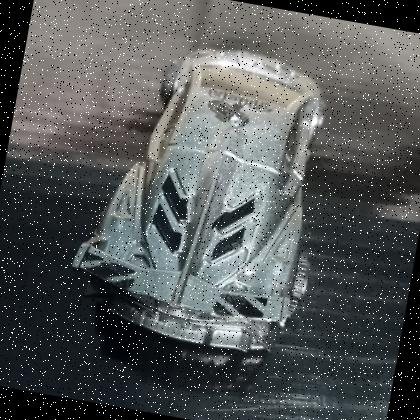Car: (57, 20, 351, 368)
